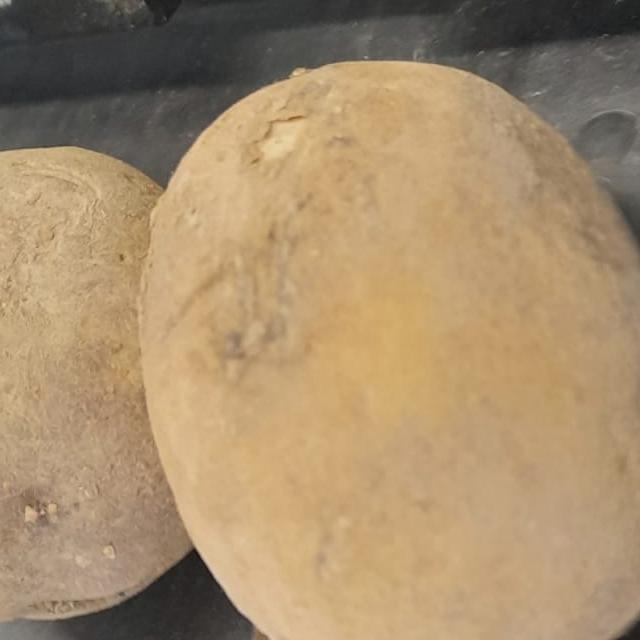potato: (130, 23, 640, 640), (0, 116, 230, 640)
